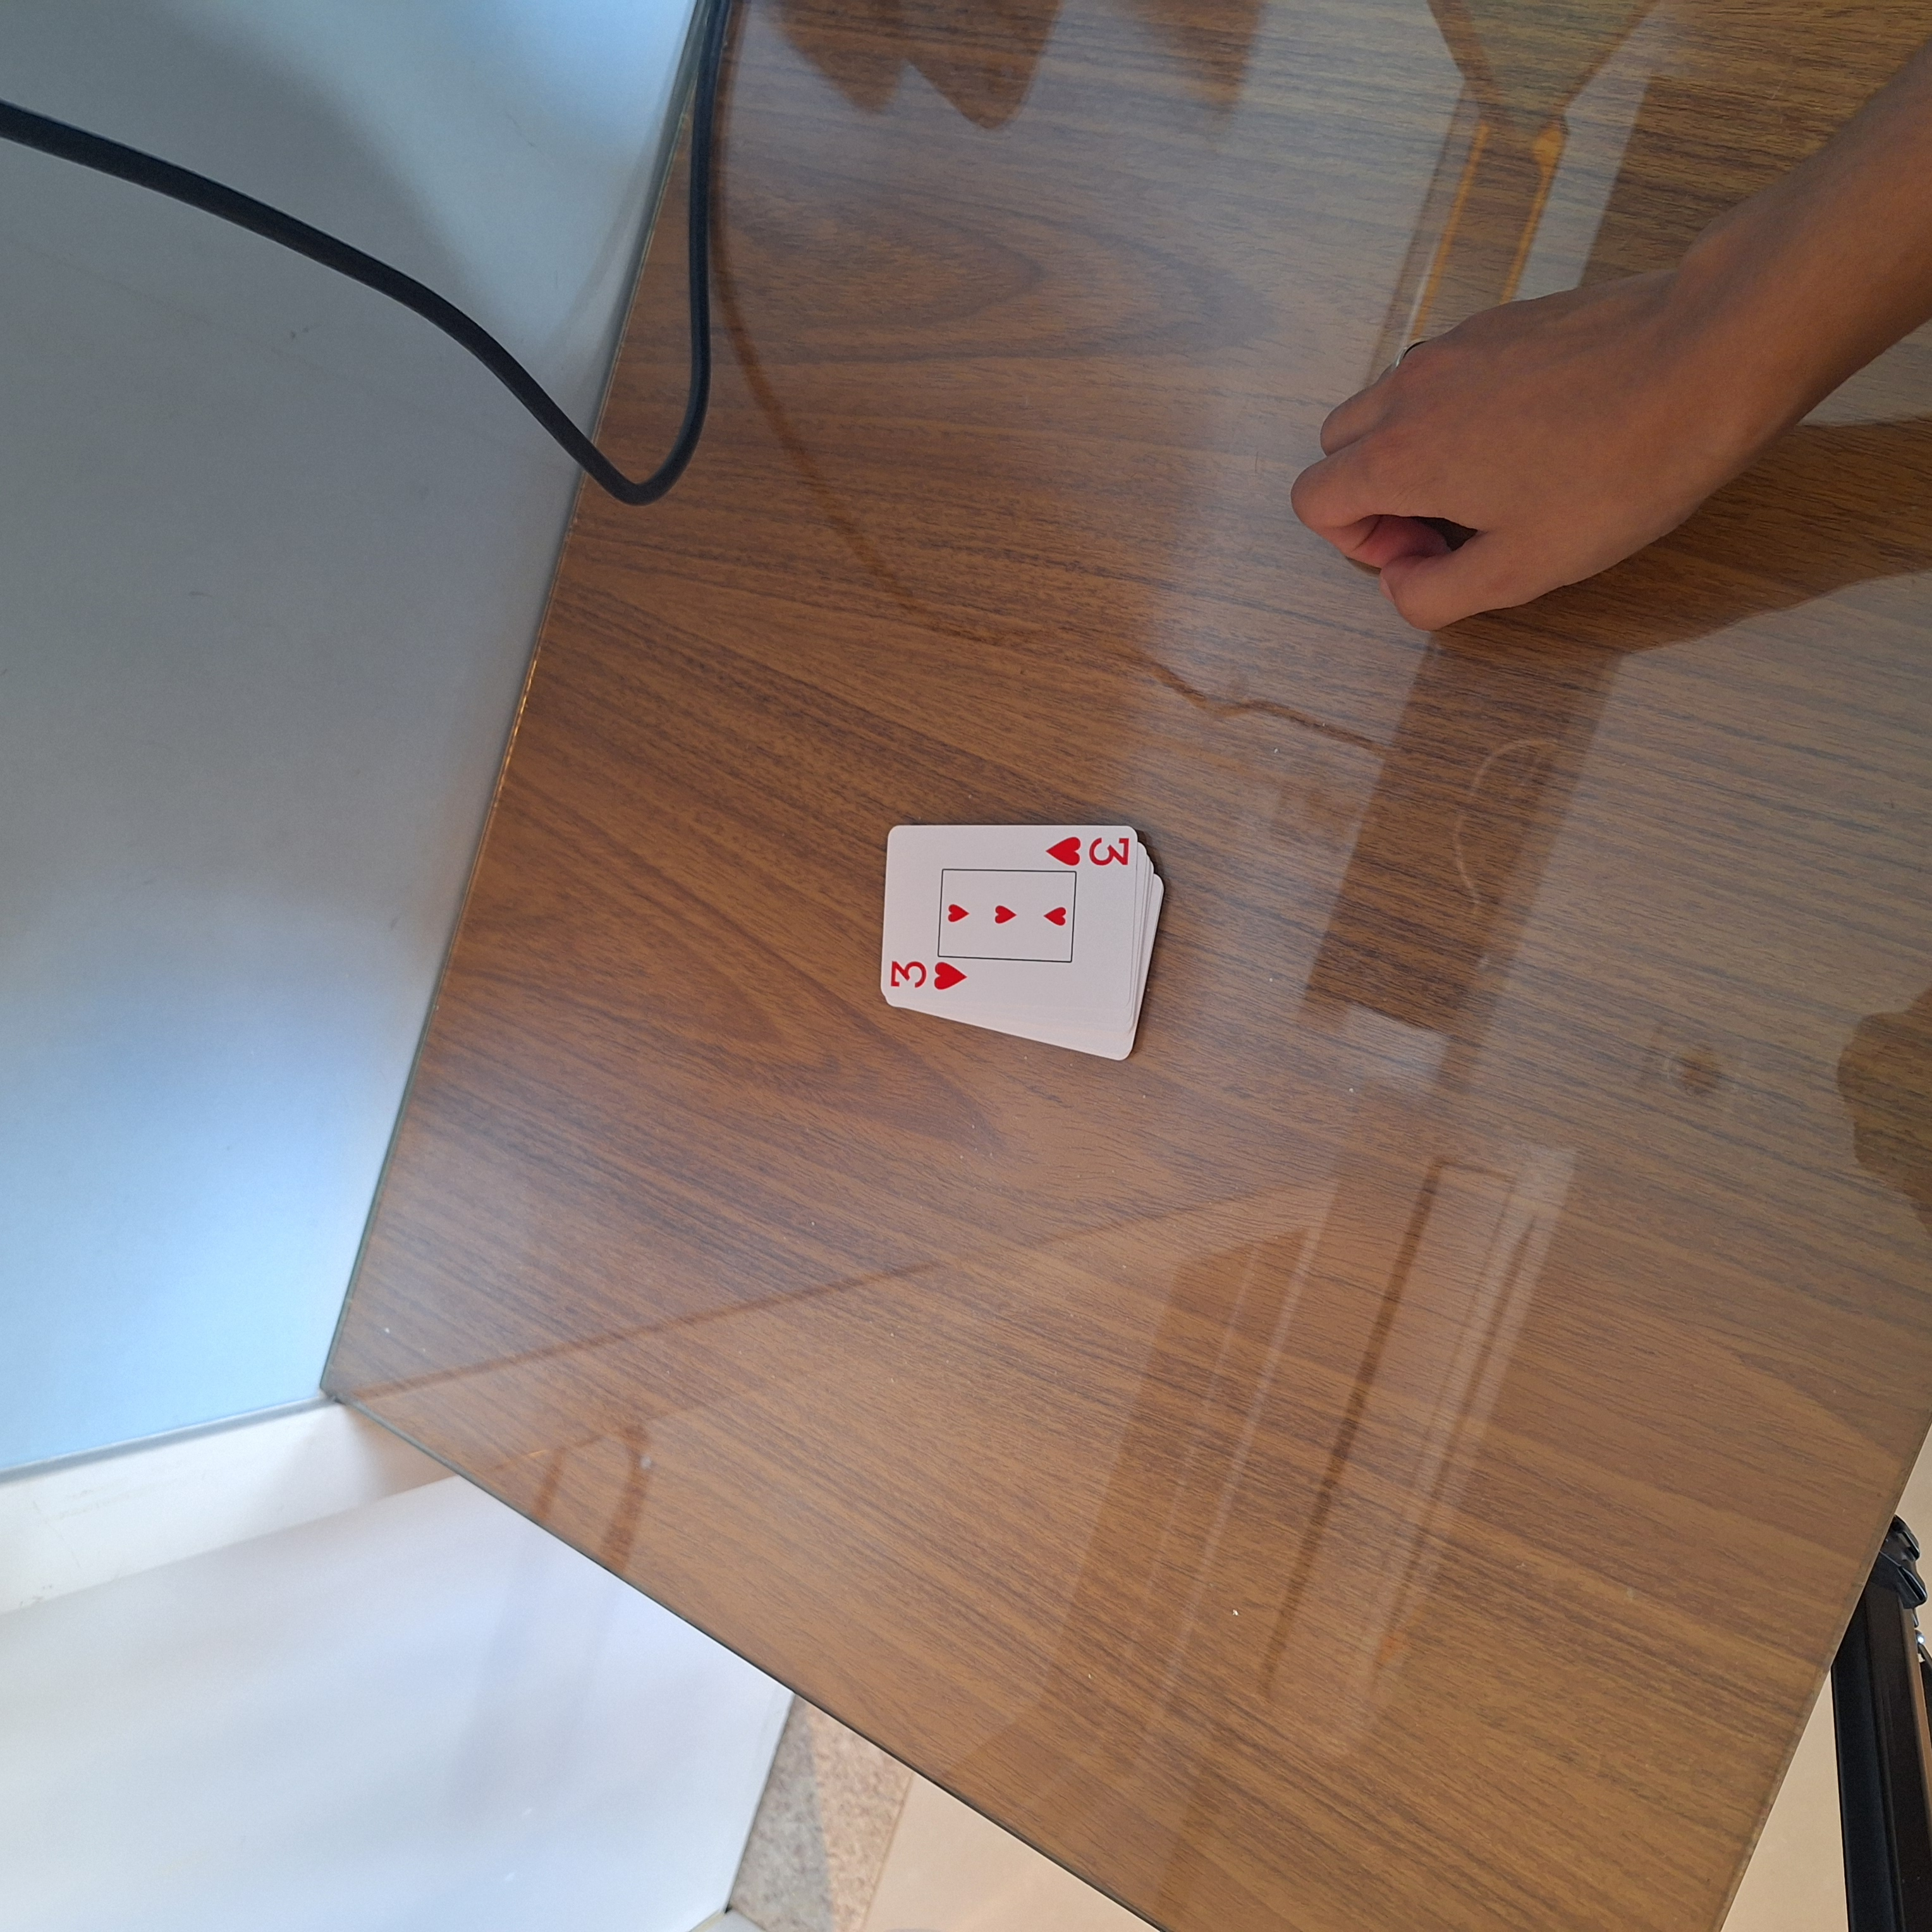3C: (1042, 832, 1132, 876), (885, 957, 971, 994)
